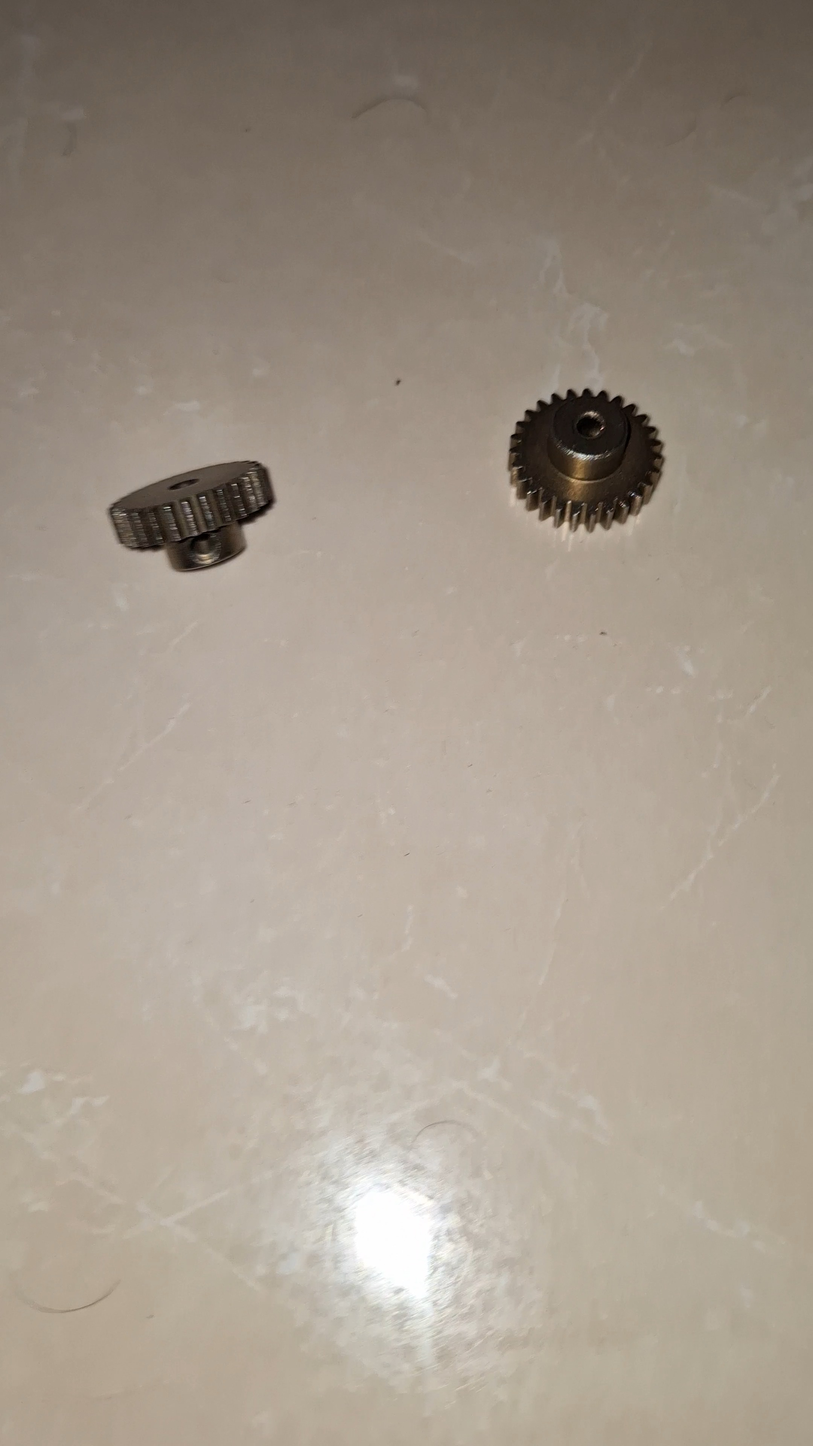spur gear: (509, 390, 662, 530), (110, 461, 273, 570)
